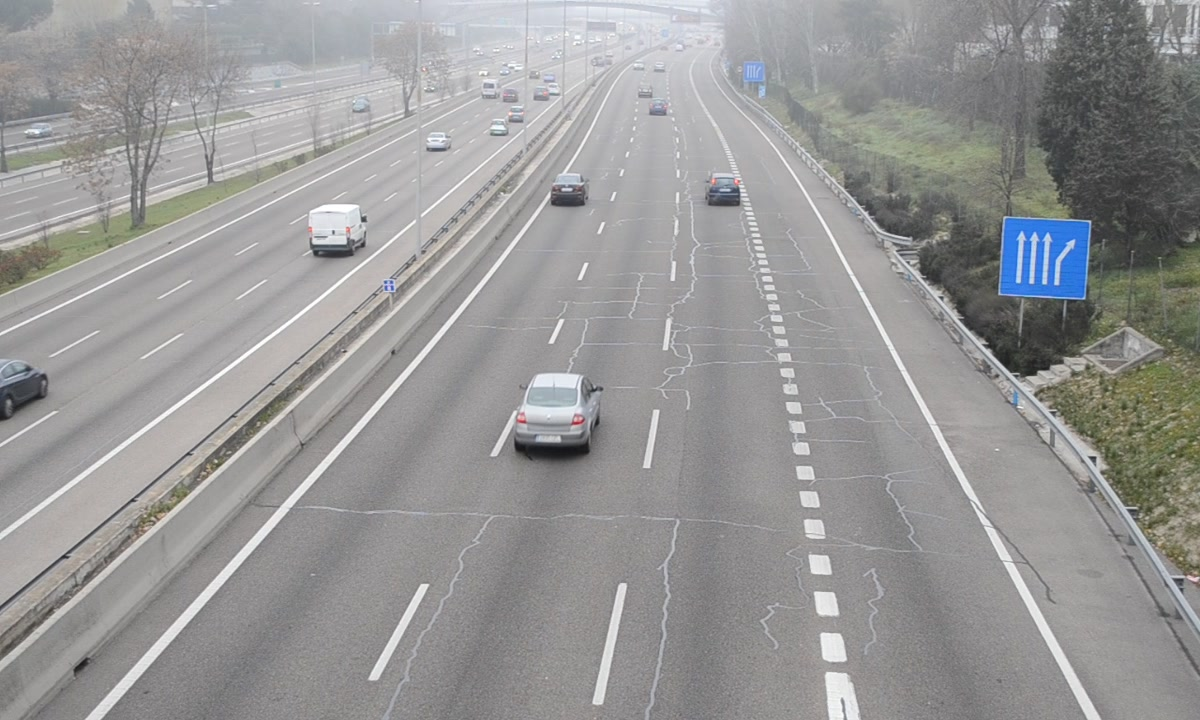car: (515, 374, 598, 451), (548, 172, 588, 205), (707, 173, 741, 206)
